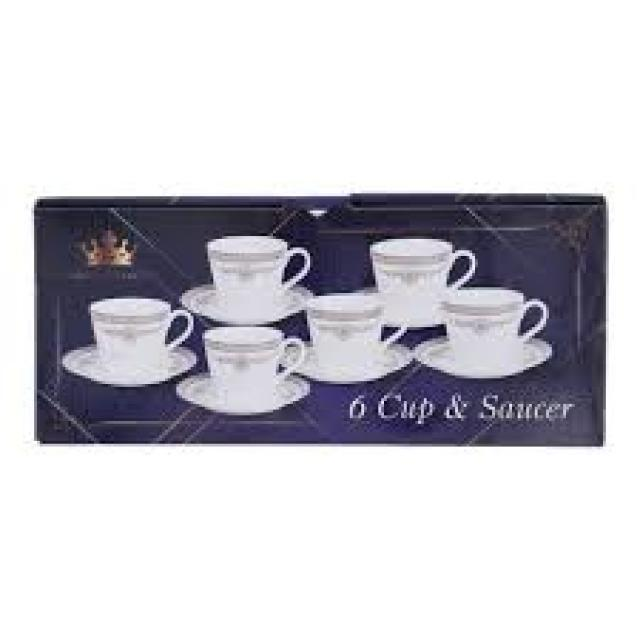taza: (73, 286, 194, 380), (443, 284, 551, 382), (363, 228, 477, 316), (311, 292, 409, 394), (199, 227, 314, 303), (203, 328, 309, 394)
